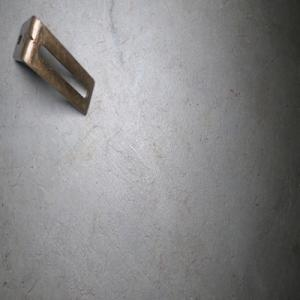MetalPart: (11, 13, 95, 117)
